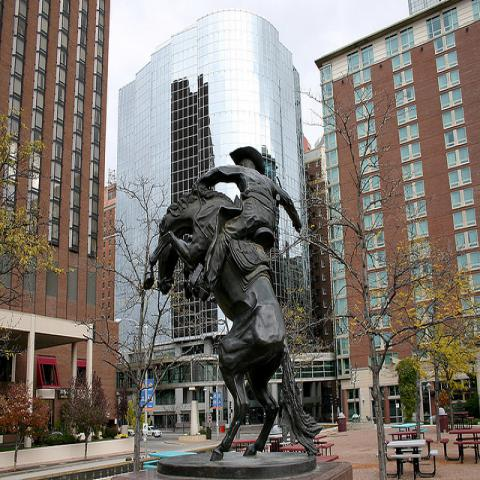car: (148, 426, 163, 437), (128, 429, 135, 437)
